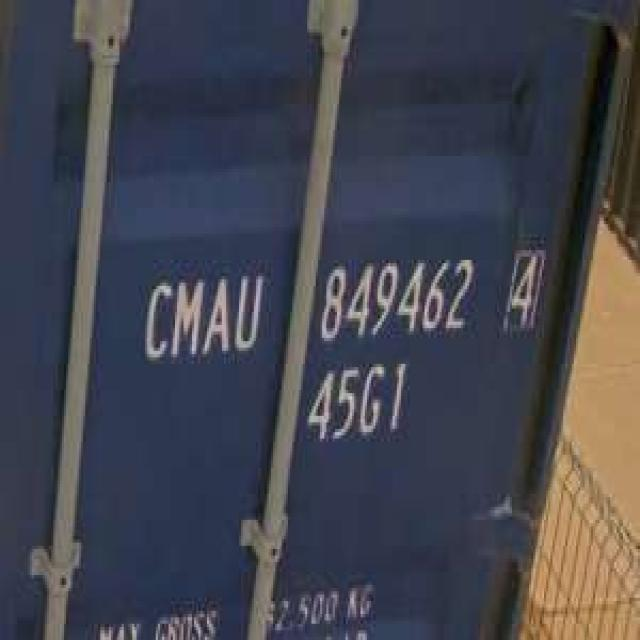dv: (500, 244, 546, 334)
owner: (139, 270, 267, 365)
serial: (320, 255, 476, 342)
size: (304, 353, 413, 449)
